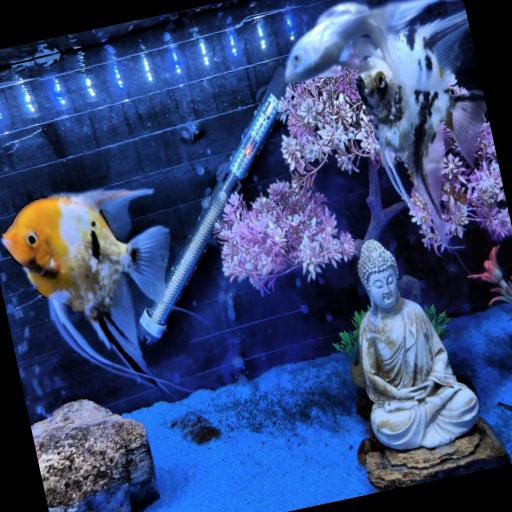Fish: (2, 190, 169, 389), (356, 12, 485, 244), (285, 0, 438, 82)
